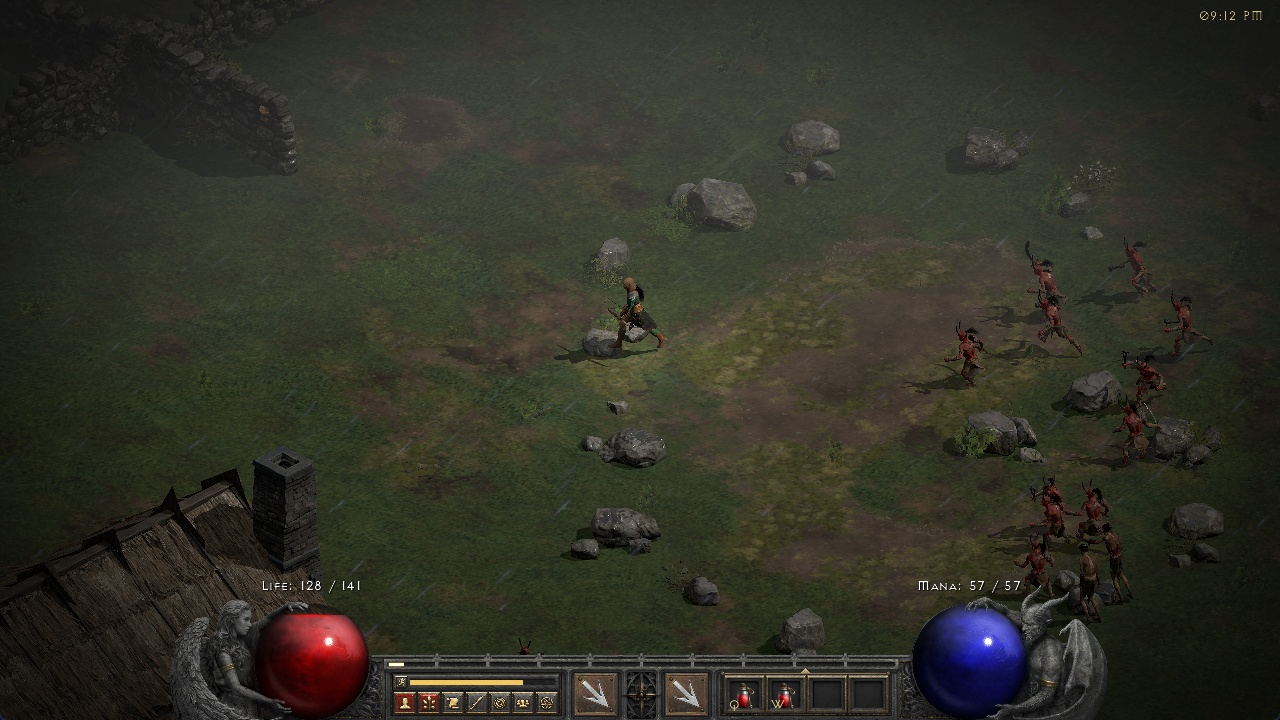fallen: (1015, 236, 1076, 304), (1161, 296, 1215, 357), (949, 324, 990, 384), (1031, 301, 1079, 352), (1118, 240, 1161, 296), (1118, 397, 1157, 454), (1123, 352, 1171, 396), (1022, 536, 1058, 585), (1079, 481, 1112, 526), (1041, 494, 1073, 536), (1035, 475, 1061, 494)
